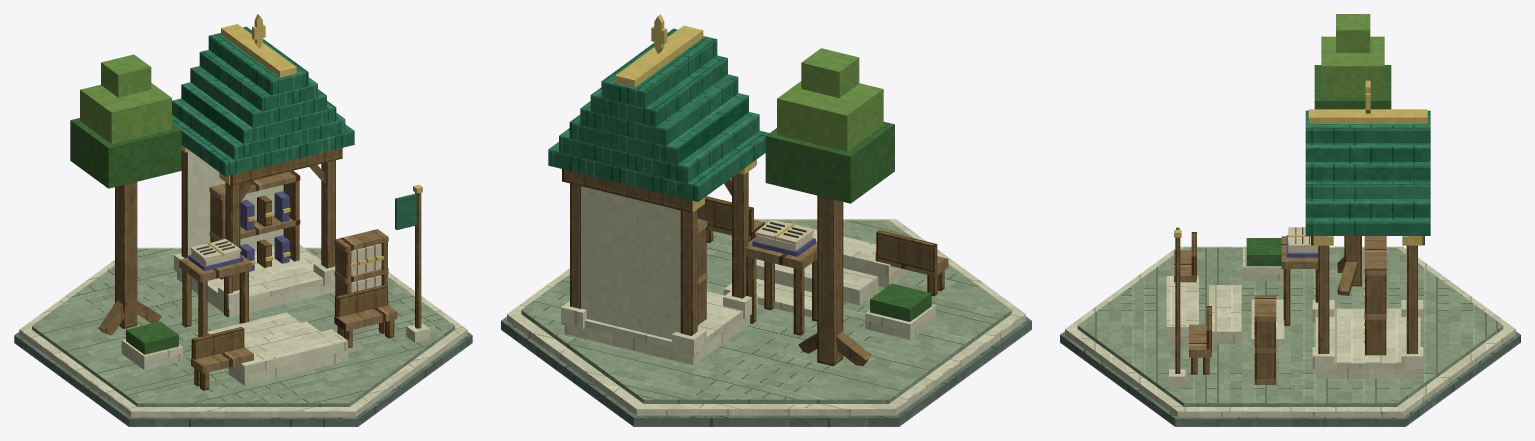
The model's file is elf_university_hex_v1.glb.
3 views of the same model, side by side, from view 1: azimuth 30°, elevation 25°; view 2: azimuth 150°, elevation 25°; view 3: azimuth 270°, elevation 25° (orthographic). The views are drawn at different scales.
Visible parts, largest first — view 1: Elf_University_Hex_V1_Foundation, Elf_University_Hex_V1_Details, Elf_University_Hex_V1_Roofs, Elf_University_Hex_V1_Structure, Elf_University_Hex_V1_Hall, Elf_University_Hex_V1_Courtyard, Elf_University_Hex_V1_Faction; view 2: Elf_University_Hex_V1_Foundation, Elf_University_Hex_V1_Details, Elf_University_Hex_V1_Roofs, Elf_University_Hex_V1_Hall, Elf_University_Hex_V1_Structure, Elf_University_Hex_V1_Courtyard; view 3: Elf_University_Hex_V1_Foundation, Elf_University_Hex_V1_Details, Elf_University_Hex_V1_Roofs, Elf_University_Hex_V1_Structure, Elf_University_Hex_V1_Courtyard, Elf_University_Hex_V1_Hall.
Part boxes in pixels (<box>): Elf_University_Hex_V1_Foundation: <box>14,247,472,426</box>; Elf_University_Hex_V1_Details: <box>70,14,429,390</box>; Elf_University_Hex_V1_Roofs: <box>172,24,354,176</box>; Elf_University_Hex_V1_Structure: <box>98,145,342,335</box>; Elf_University_Hex_V1_Hall: <box>177,151,335,317</box>; Elf_University_Hex_V1_Courtyard: <box>121,312,348,385</box>; Elf_University_Hex_V1_Faction: <box>395,193,416,229</box>; Elf_University_Hex_V1_Foundation: <box>501,219,1031,426</box>; Elf_University_Hex_V1_Details: <box>651,14,948,335</box>; Elf_University_Hex_V1_Roofs: <box>548,25,769,201</box>; Elf_University_Hex_V1_Hall: <box>564,186,749,365</box>; Elf_University_Hex_V1_Structure: <box>561,159,871,366</box>; Elf_University_Hex_V1_Courtyard: <box>724,223,936,339</box>; Elf_University_Hex_V1_Foundation: <box>1060,246,1520,426</box>; Elf_University_Hex_V1_Details: <box>1169,14,1391,386</box>; Elf_University_Hex_V1_Roofs: <box>1305,109,1430,235</box>; Elf_University_Hex_V1_Structure: <box>1311,236,1424,370</box>; Elf_University_Hex_V1_Courtyard: <box>1166,248,1284,346</box>; Elf_University_Hex_V1_Hall: <box>1315,245,1420,378</box>.
Bounding box in the file's own units: 1.59 × 1.27 × 1.84.
1 material, 1 textured.
